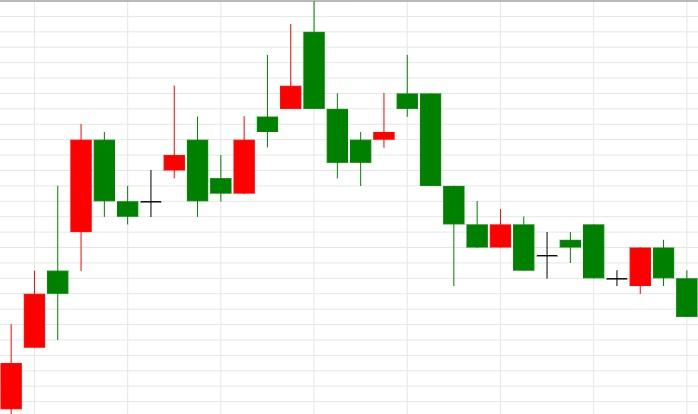shooting_star_fall: (210, 24, 302, 204)
